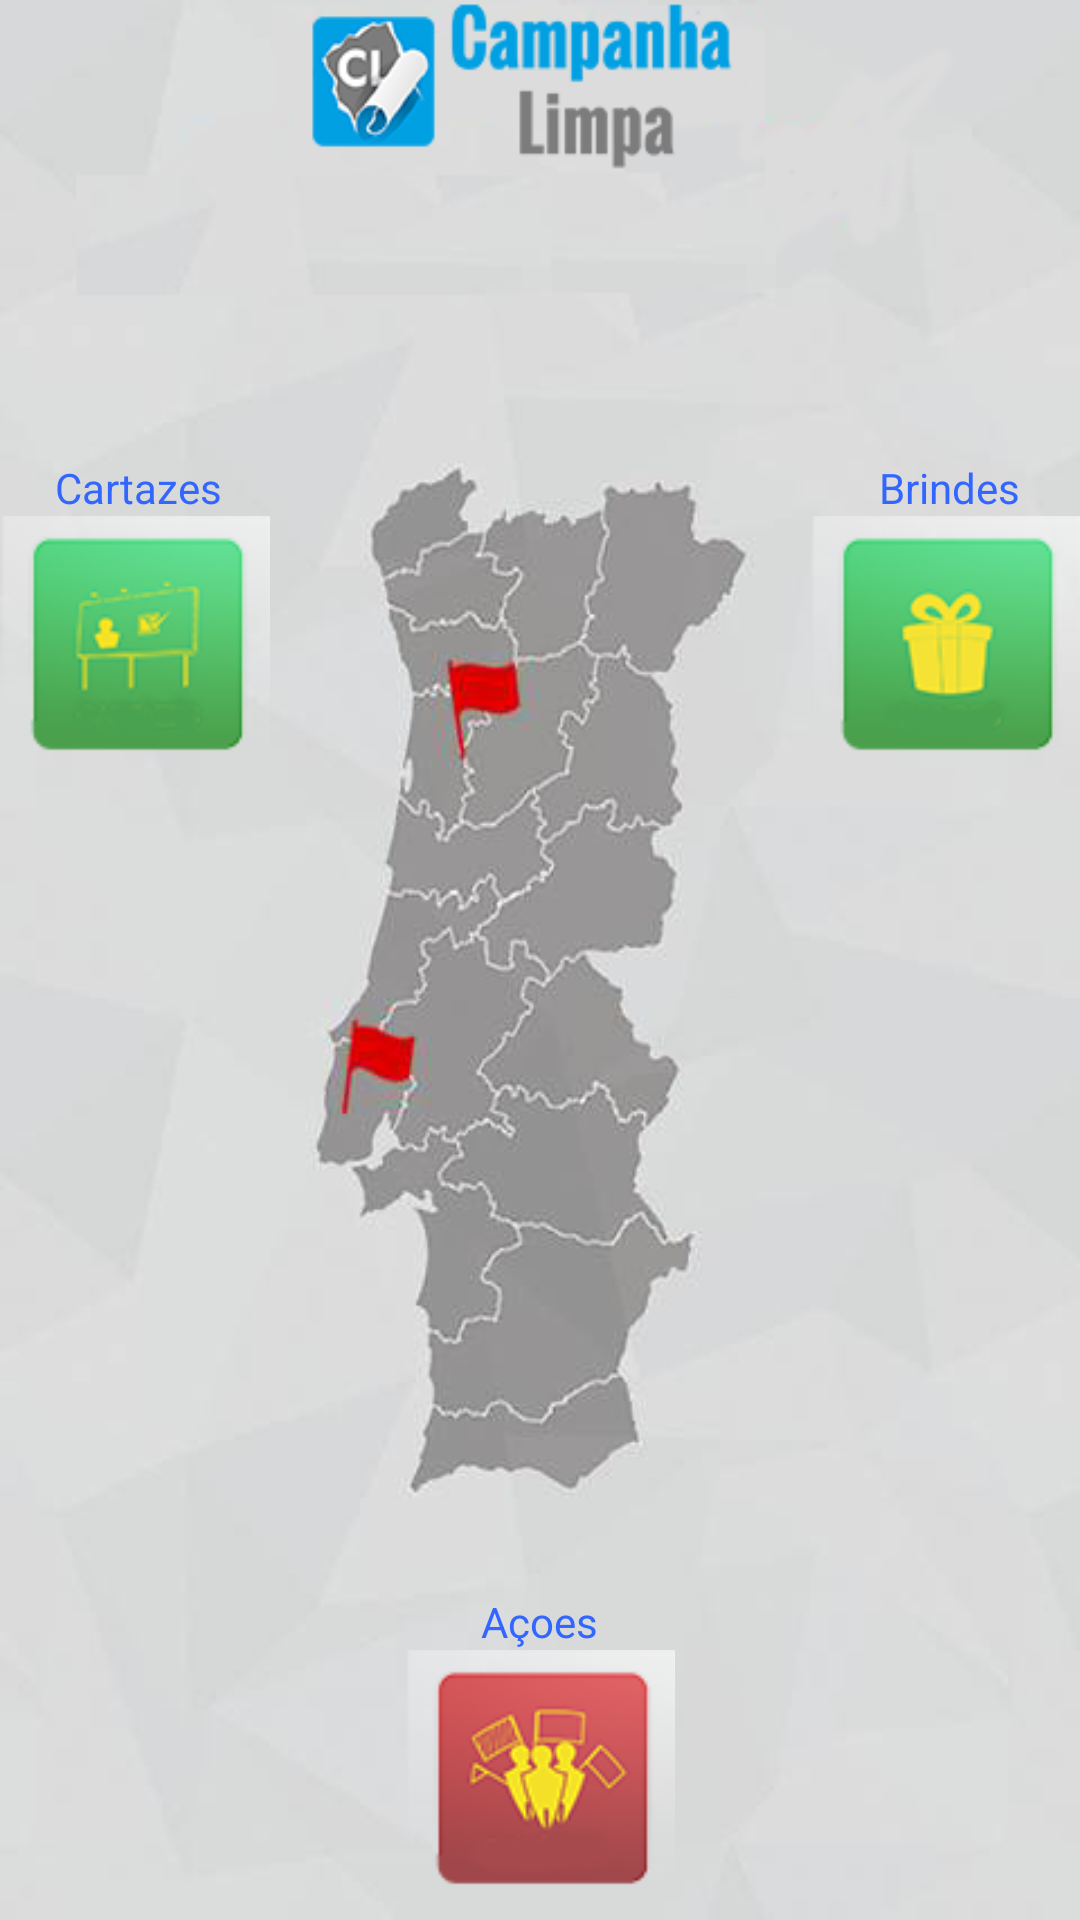

Icons on this 1080 × 1920 Android screen, each with the point to tap as (x=x, y=y):
comicio: (x=542, y=1778)
